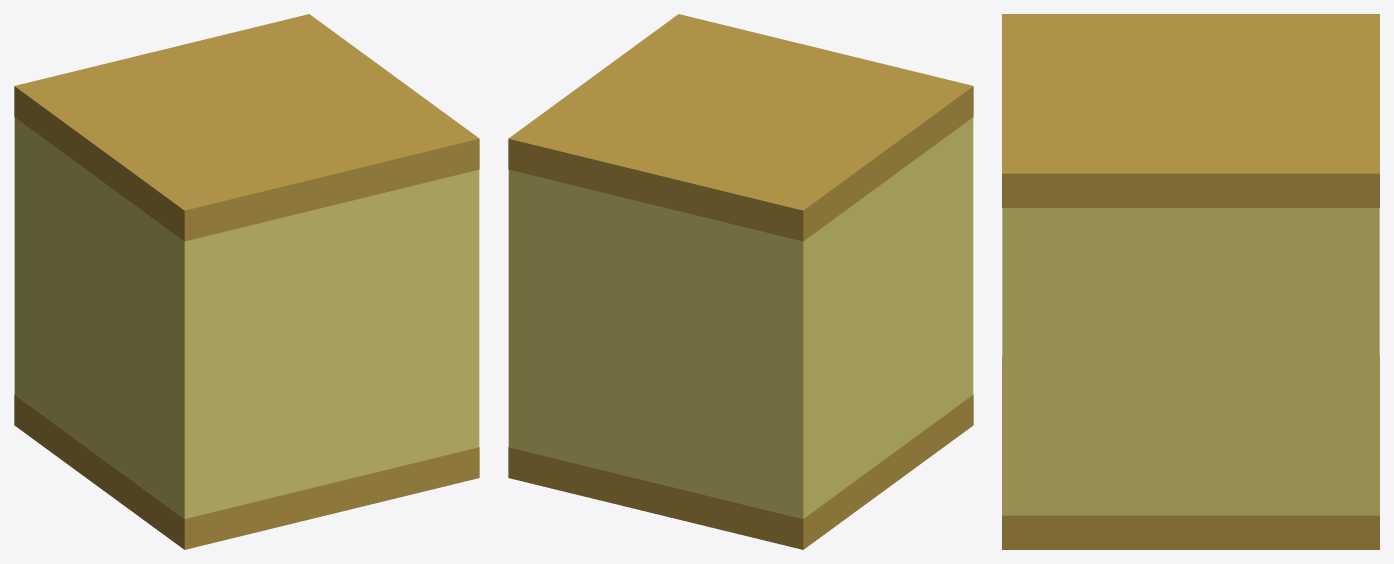
The model's file is wall6.fbx.
3 views of the same model, side by side, from view 1: azimuth 30°, elevation 25°; view 2: azimuth 150°, elevation 25°; view 3: azimuth 270°, elevation 25° (orthographic). The views are drawn at different scales.
Visible parts, largest first — view 1: Wall; view 2: Wall; view 3: Wall.
Boxes of the visible parts, left/top/right/bottom form: Wall: left=14, top=14, right=479, bottom=549; Wall: left=508, top=14, right=973, bottom=549; Wall: left=1002, top=14, right=1379, bottom=549.
Bounding box in the file's own units: 2 × 2.2 × 2.
